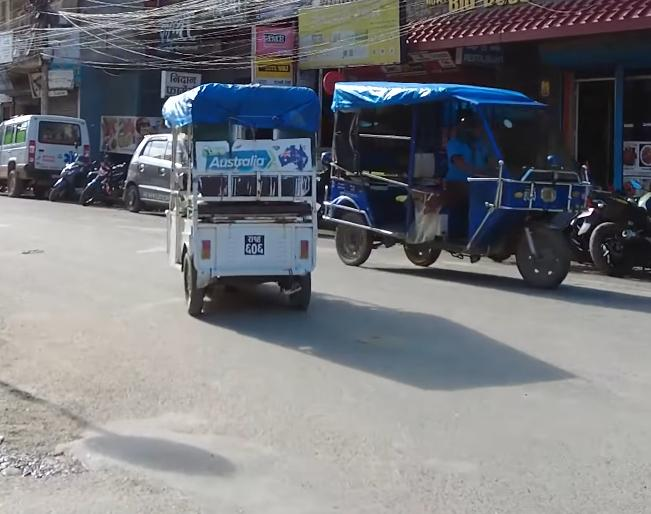e-rickshaw: (325, 75, 582, 297), (153, 80, 326, 328)
